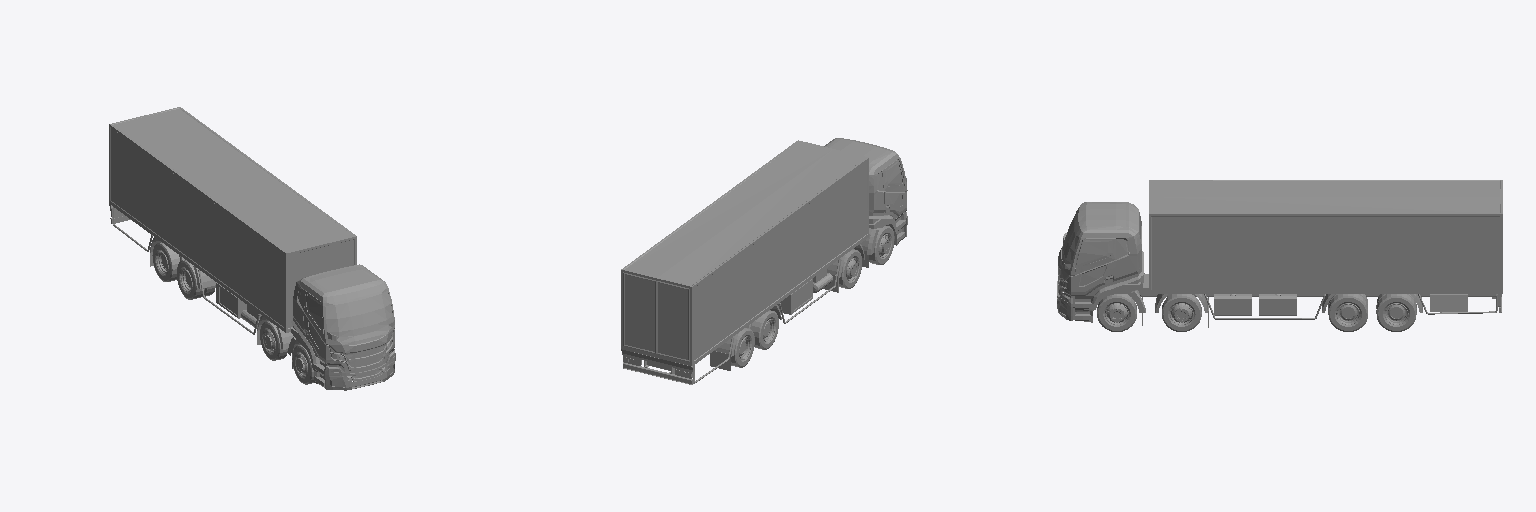
Rendered from Truck.obj.
3 views of the same model, side by side, from view 1: azimuth 30°, elevation 25°; view 2: azimuth 150°, elevation 25°; view 3: azimuth 270°, elevation 25° (orthographic).
Visible parts, largest first — view 1: Truck_body_Truck_body.L, Truck_head_Truck_head.L, wheels_Circle, Truck_door.R, Truck_Toolbox1; view 2: Truck_body_Truck_body.L, Truck_head_Truck_head.L, wheels_Circle, Truck_door.R, Truck_Toolbox1; view 3: Truck_body_Truck_body.L, Truck_head_Truck_head.L, wheels_Circle, Truck_door.L, Truck_Fueltank02, Truck_Fueltank01, Truck_Toolbox.
Boxes of the visible parts, box(x1,y1,x2,y2) form: Truck_body_Truck_body.L: box(109, 107, 356, 349); Truck_head_Truck_head.L: box(288, 264, 395, 390); wheels_Circle: box(152, 242, 313, 384); Truck_door.R: box(303, 291, 324, 362); Truck_Toolbox1: box(216, 282, 246, 318); Truck_body_Truck_body.L: box(621, 140, 868, 384); Truck_head_Truck_head.L: box(824, 138, 907, 267); wheels_Circle: box(731, 226, 894, 367); Truck_door.R: box(882, 160, 904, 219); Truck_Toolbox1: box(777, 279, 812, 314); Truck_body_Truck_body.L: box(1138, 180, 1502, 327); Truck_head_Truck_head.L: box(1057, 202, 1145, 325); wheels_Circle: box(1097, 294, 1416, 331); Truck_door.L: box(1075, 238, 1115, 295); Truck_Fueltank02: box(1259, 294, 1296, 315); Truck_Fueltank01: box(1214, 294, 1251, 315); Truck_Toolbox: box(1430, 294, 1467, 311).
Bounding box in the file's own units: 1.74 × 2.6 × 8.89.